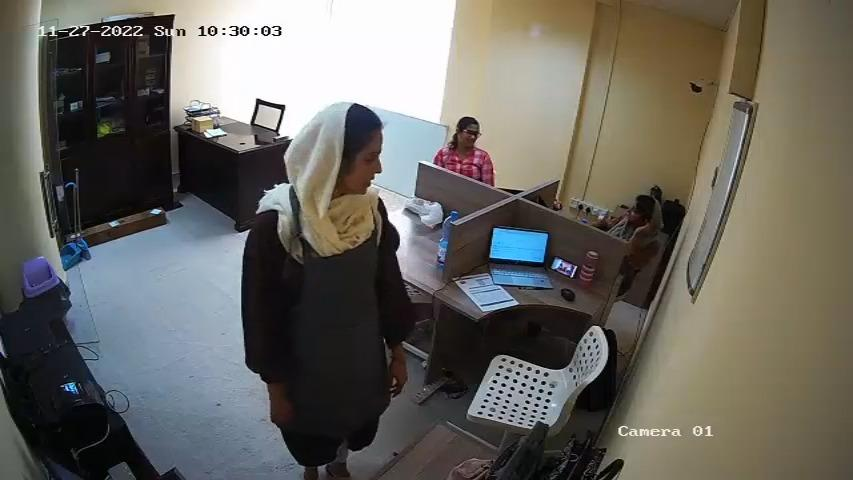apron: (284, 197, 390, 416)
